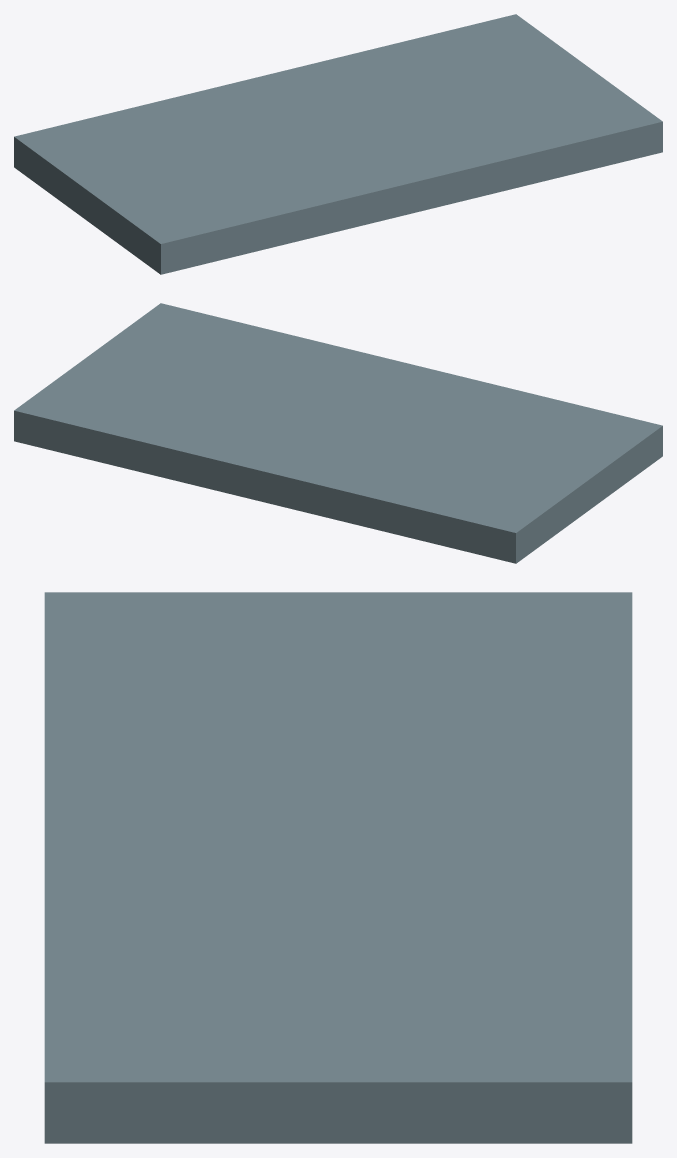
Rendered from top-bottom-shelf-plank.obj.
3 views of the same model, one above another, from view 1: azimuth 30°, elevation 25°; view 2: azimuth 150°, elevation 25°; view 3: azimuth 270°, elevation 25° (orthographic). The views are drawn at different scales.
Visible parts, largest first — view 1: IKE170029; view 2: IKE170029; view 3: IKE170029.
Boxes of the visible parts, x1,y1,x2,y2 form: IKE170029: (14, 14, 662, 274); IKE170029: (14, 303, 662, 563); IKE170029: (44, 592, 632, 1143).
Size of the model in its own units: 2.31 by 0.135 by 1.17.
